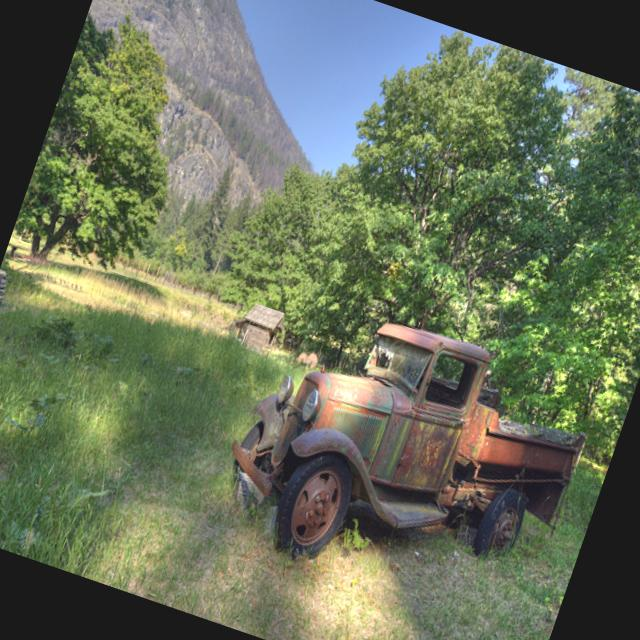Vehicle: (195, 265, 615, 640)
